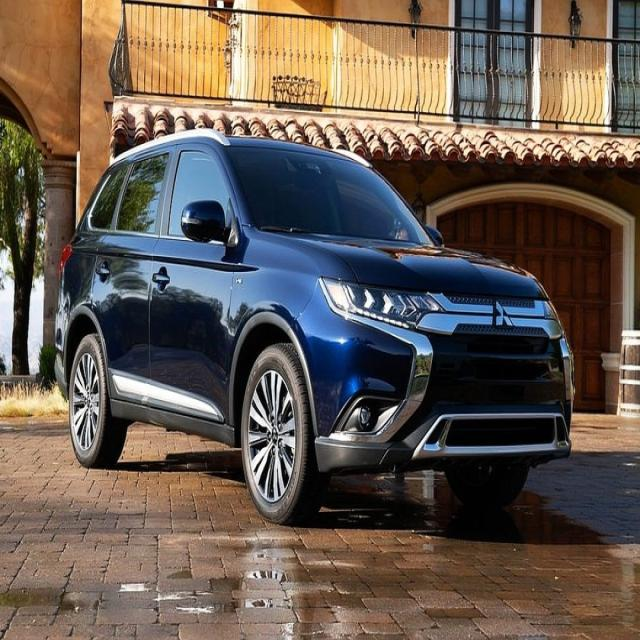light_vehicle: (55, 127, 576, 526)
